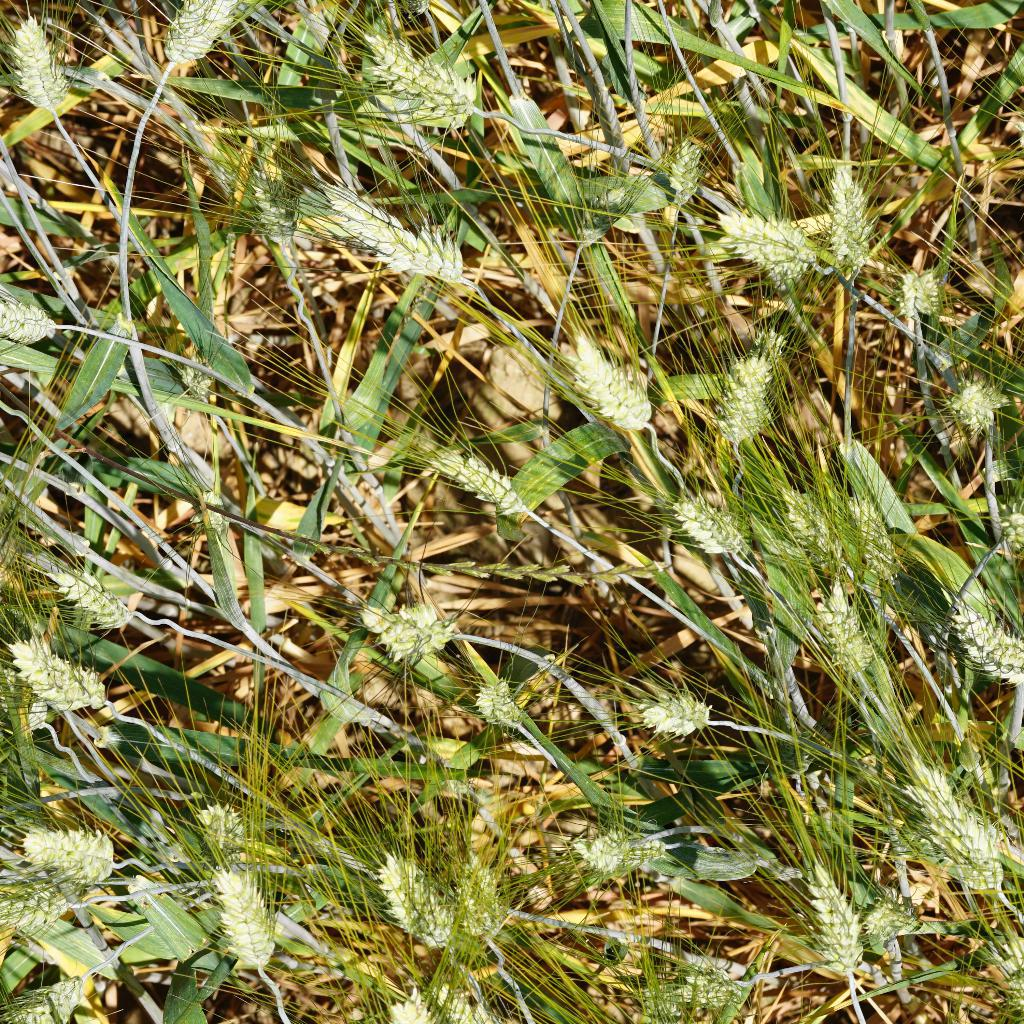0-0: (316, 178, 466, 287), (904, 763, 1008, 906), (361, 30, 482, 130), (562, 326, 658, 439), (377, 842, 465, 959), (406, 446, 531, 519), (792, 852, 866, 975), (9, 634, 124, 712), (8, 3, 83, 122), (161, 0, 278, 76), (937, 592, 1024, 693), (708, 209, 823, 277), (208, 869, 280, 977), (711, 342, 779, 447), (341, 604, 464, 661), (839, 487, 910, 585), (814, 580, 879, 680), (655, 493, 750, 561), (818, 164, 873, 278), (45, 560, 139, 626), (16, 825, 122, 882), (786, 474, 847, 570), (451, 848, 507, 940), (238, 161, 297, 247), (576, 168, 635, 250), (433, 967, 511, 1024), (857, 886, 922, 951), (632, 965, 701, 1024), (631, 686, 710, 737), (188, 801, 251, 864), (690, 967, 758, 1024), (13, 971, 84, 1024), (467, 678, 530, 737), (1, 287, 66, 343), (612, 832, 690, 875), (0, 879, 66, 929), (943, 378, 1013, 425), (660, 128, 702, 205), (368, 978, 436, 1024), (578, 827, 633, 883), (890, 266, 941, 326), (983, 494, 1024, 561), (185, 490, 234, 543), (745, 322, 789, 380), (166, 352, 215, 397)
